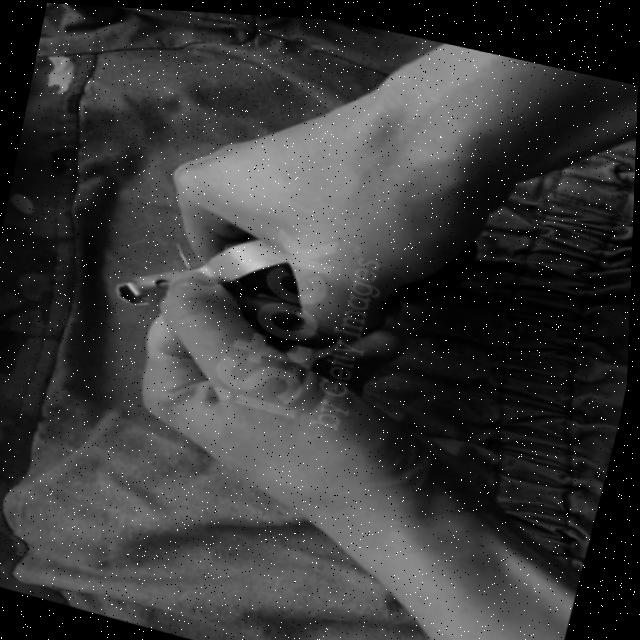grenade: (101, 141, 486, 379)
